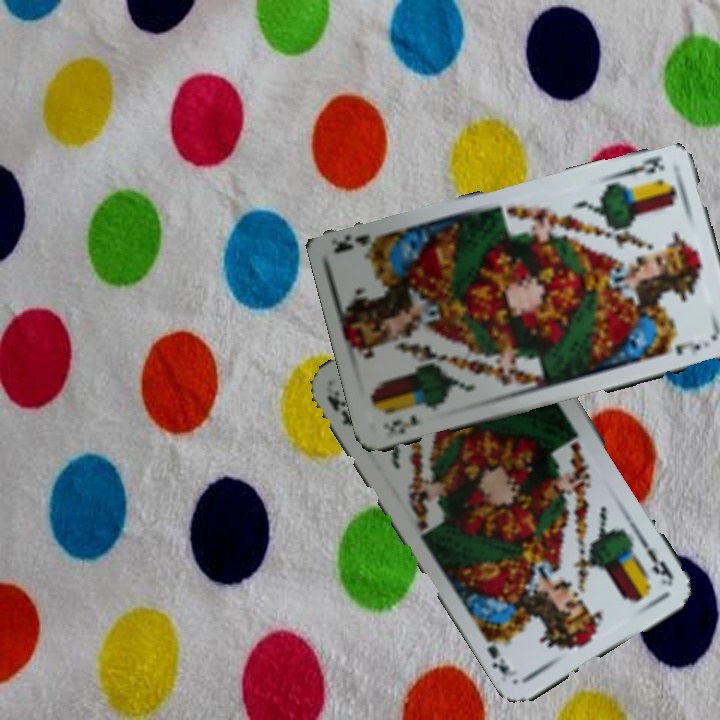EK: (636, 534, 677, 588), (612, 152, 667, 181), (322, 386, 356, 429), (379, 410, 422, 437)
